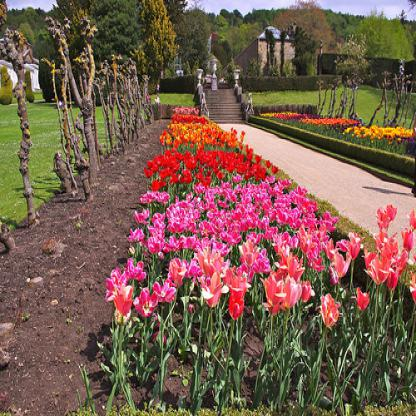TULIP: (153, 87, 416, 412)
